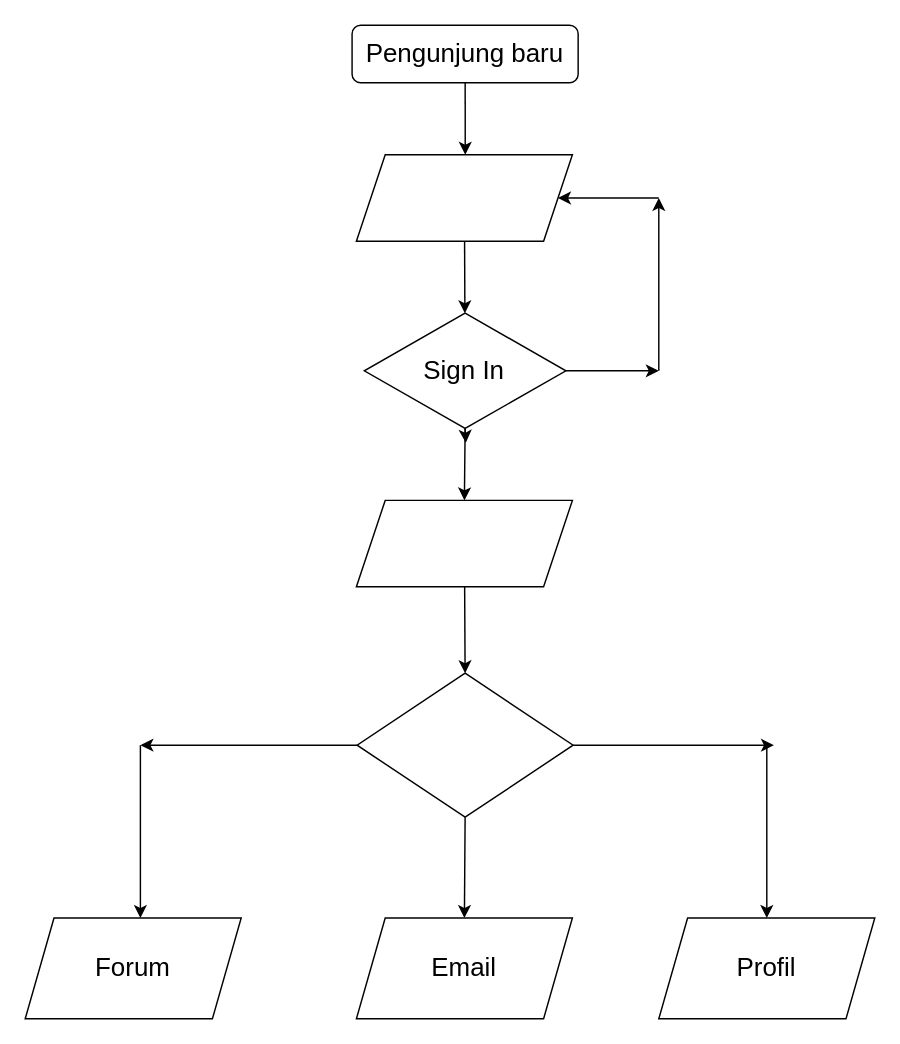
This 900x1044 diagram has some shape labels left out. The shapes that lost their labels are listed below. From the top down, each one's centre as x and y in pixels, then its label:
At point 463,197: "Landing Page".
At point 463,543: "Dashboard".
At point 464,744: "Menu".
